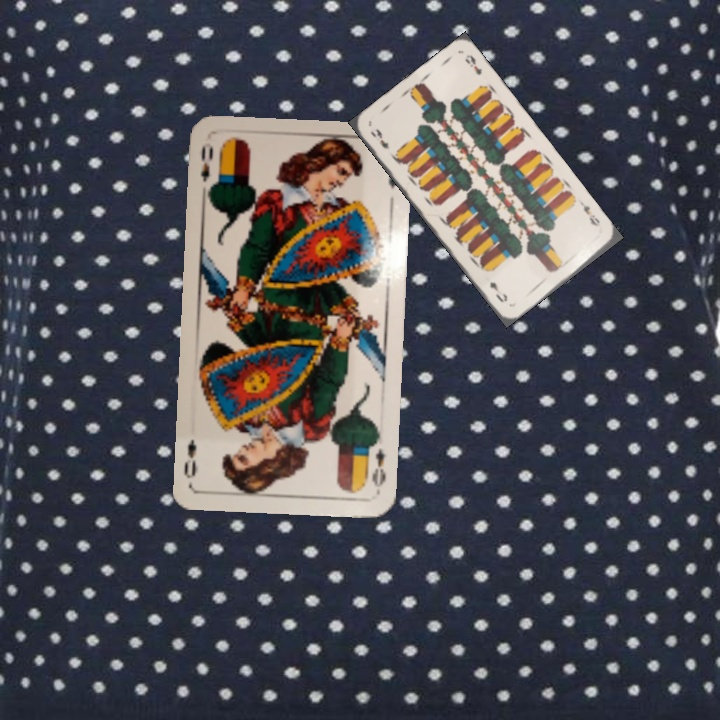E9: (577, 198, 603, 229), (366, 124, 392, 152)
EO: (368, 444, 388, 495), (196, 138, 215, 184)
